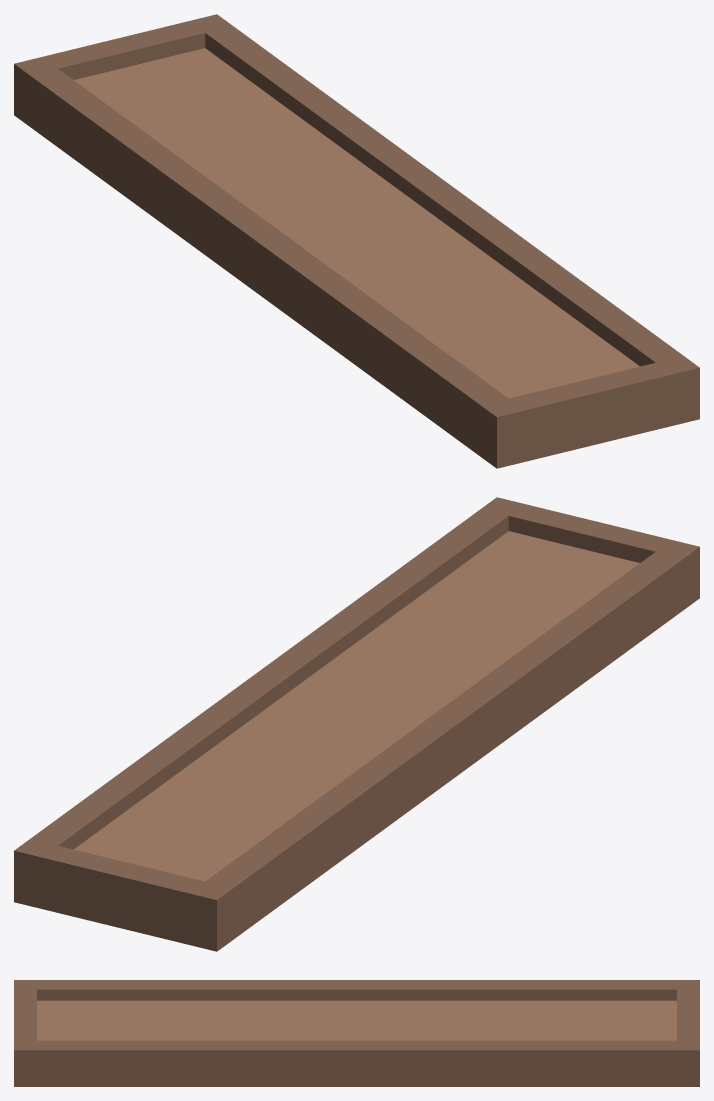
File: langbeet.glb
3 views of the same model, one above another, from view 1: azimuth 30°, elevation 25°; view 2: azimuth 150°, elevation 25°; view 3: azimuth 270°, elevation 25° (orthographic). The views are drawn at different scales.
Parts seen in each view (by area): view 1: beet; view 2: beet; view 3: beet.
Boxes of the visible parts, x1,y1,x2,y2 form: beet: (14, 14, 699, 468); beet: (14, 497, 699, 951); beet: (14, 980, 699, 1086).
Size of the model in its own units: 11.73 by 2.84 by 48.33.
